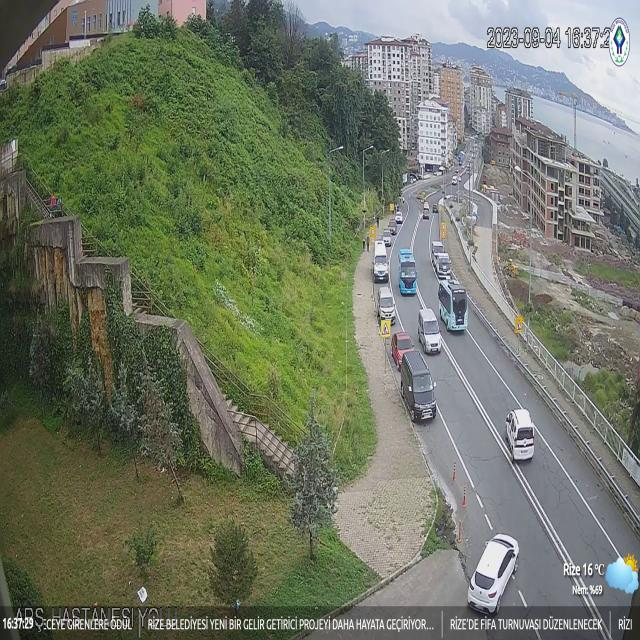car: (467, 535, 519, 612), (400, 361, 438, 424), (504, 408, 538, 468), (439, 275, 470, 333), (418, 308, 443, 357), (377, 285, 399, 325)
